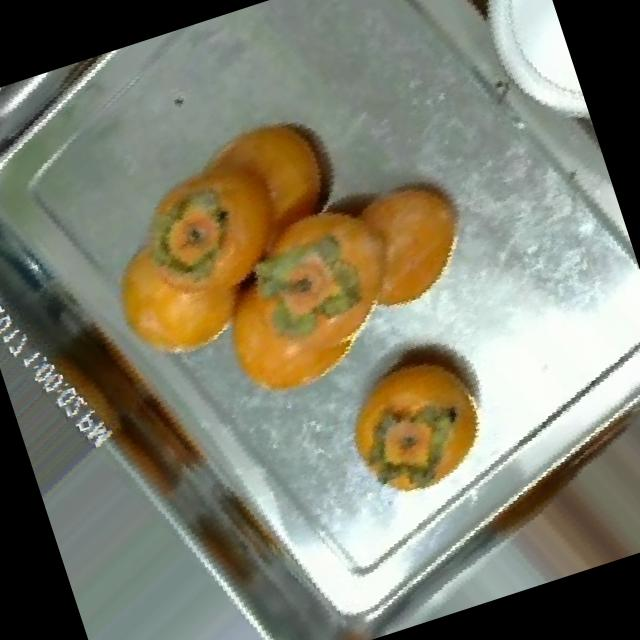Fruit: (298, 296, 534, 526), (182, 206, 422, 432), (288, 136, 508, 348)
